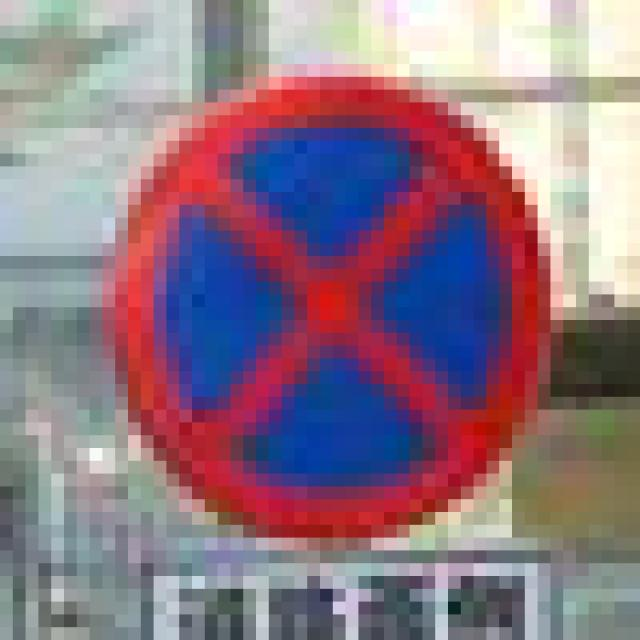no_parking: (102, 64, 538, 538)
